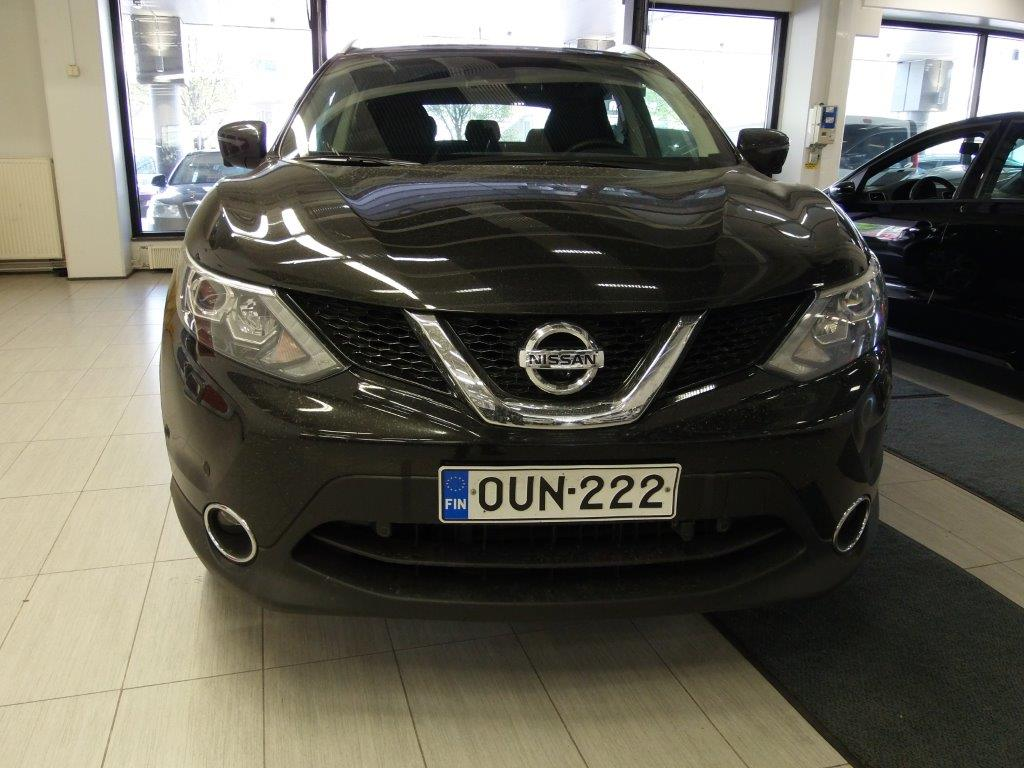license: (434, 462, 680, 526)
